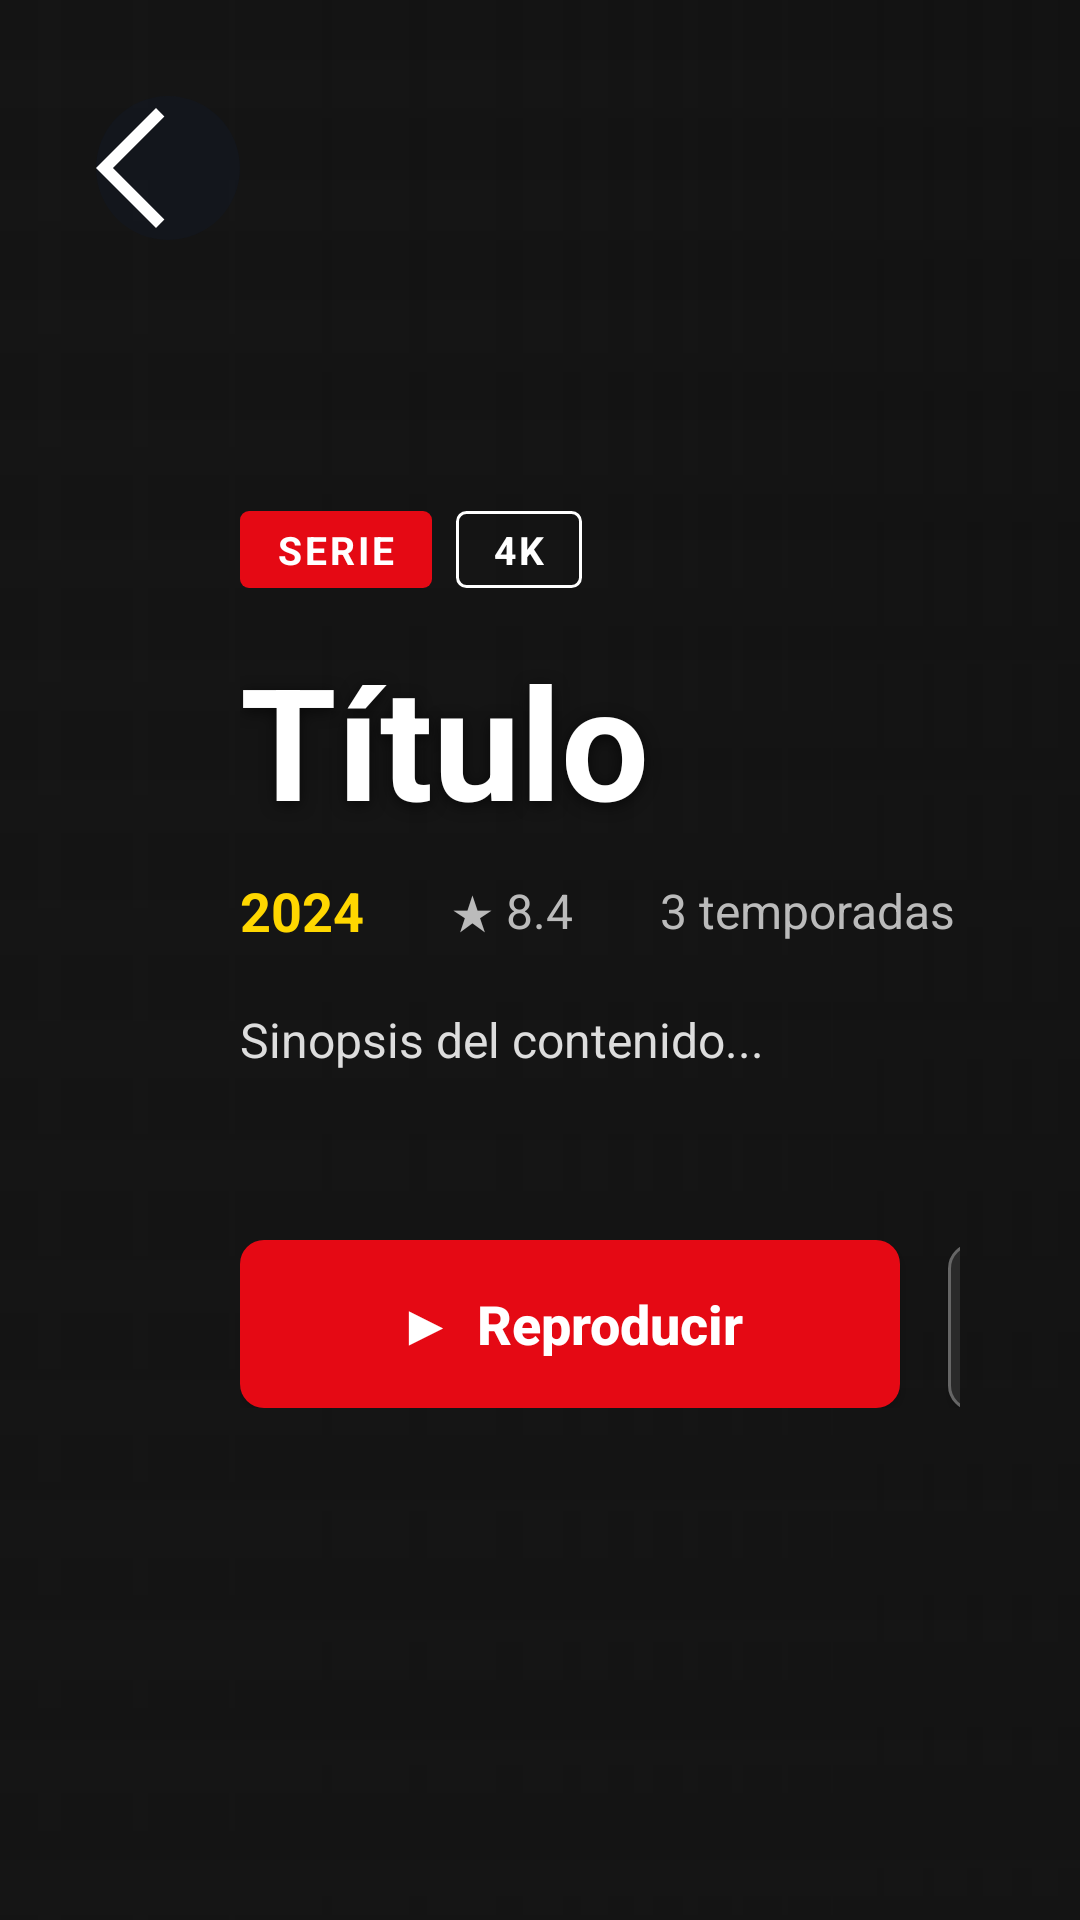

Icon bounding boxes for this 1080 × 1920 phone screenshot, format BBox(x1, y1, x2, y2):
Volver: BBox(96, 108, 165, 228)
